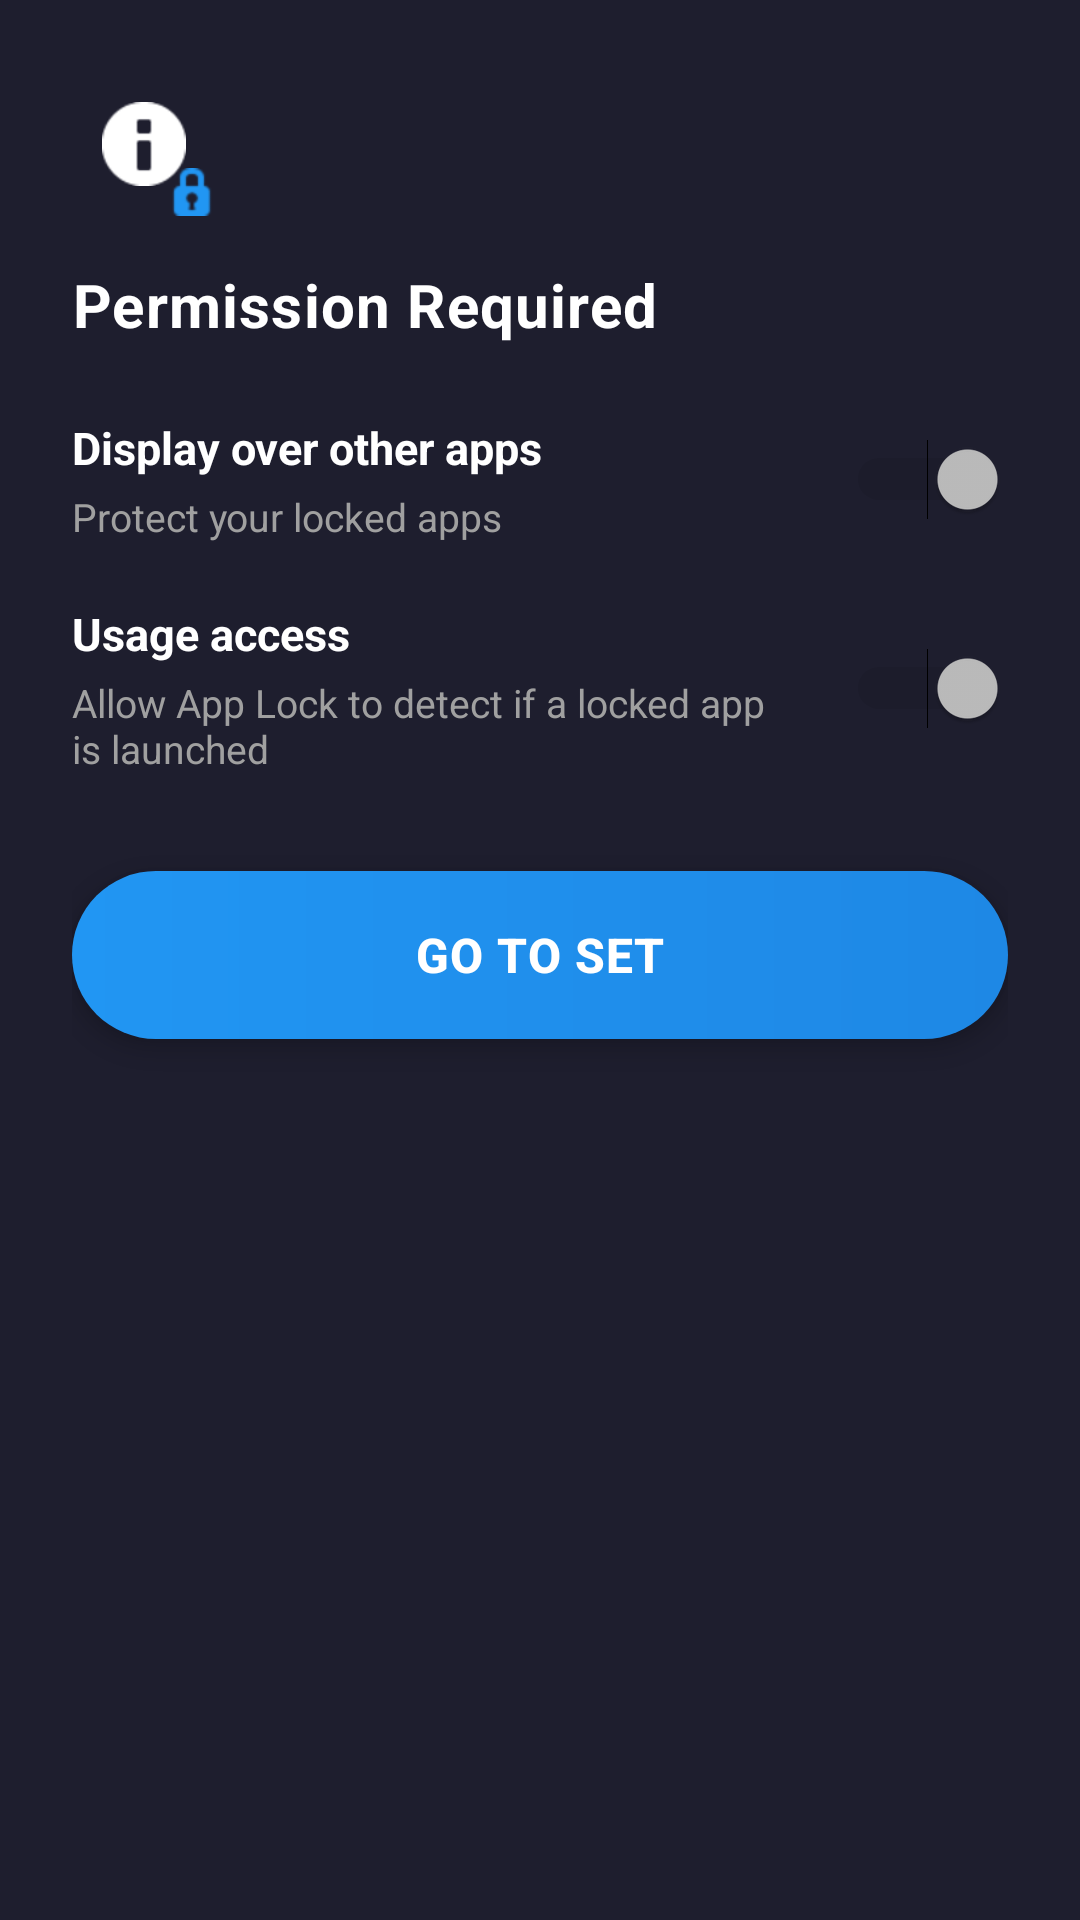

Icons on this 1080 × 1920 Android screen, each with its box as box(x1, y1, x2, y2):
Security badge: box(173, 168, 211, 216)
